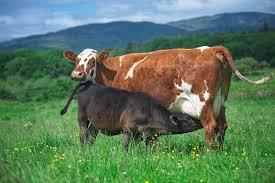cow: (64, 45, 275, 153), (60, 79, 205, 156)
